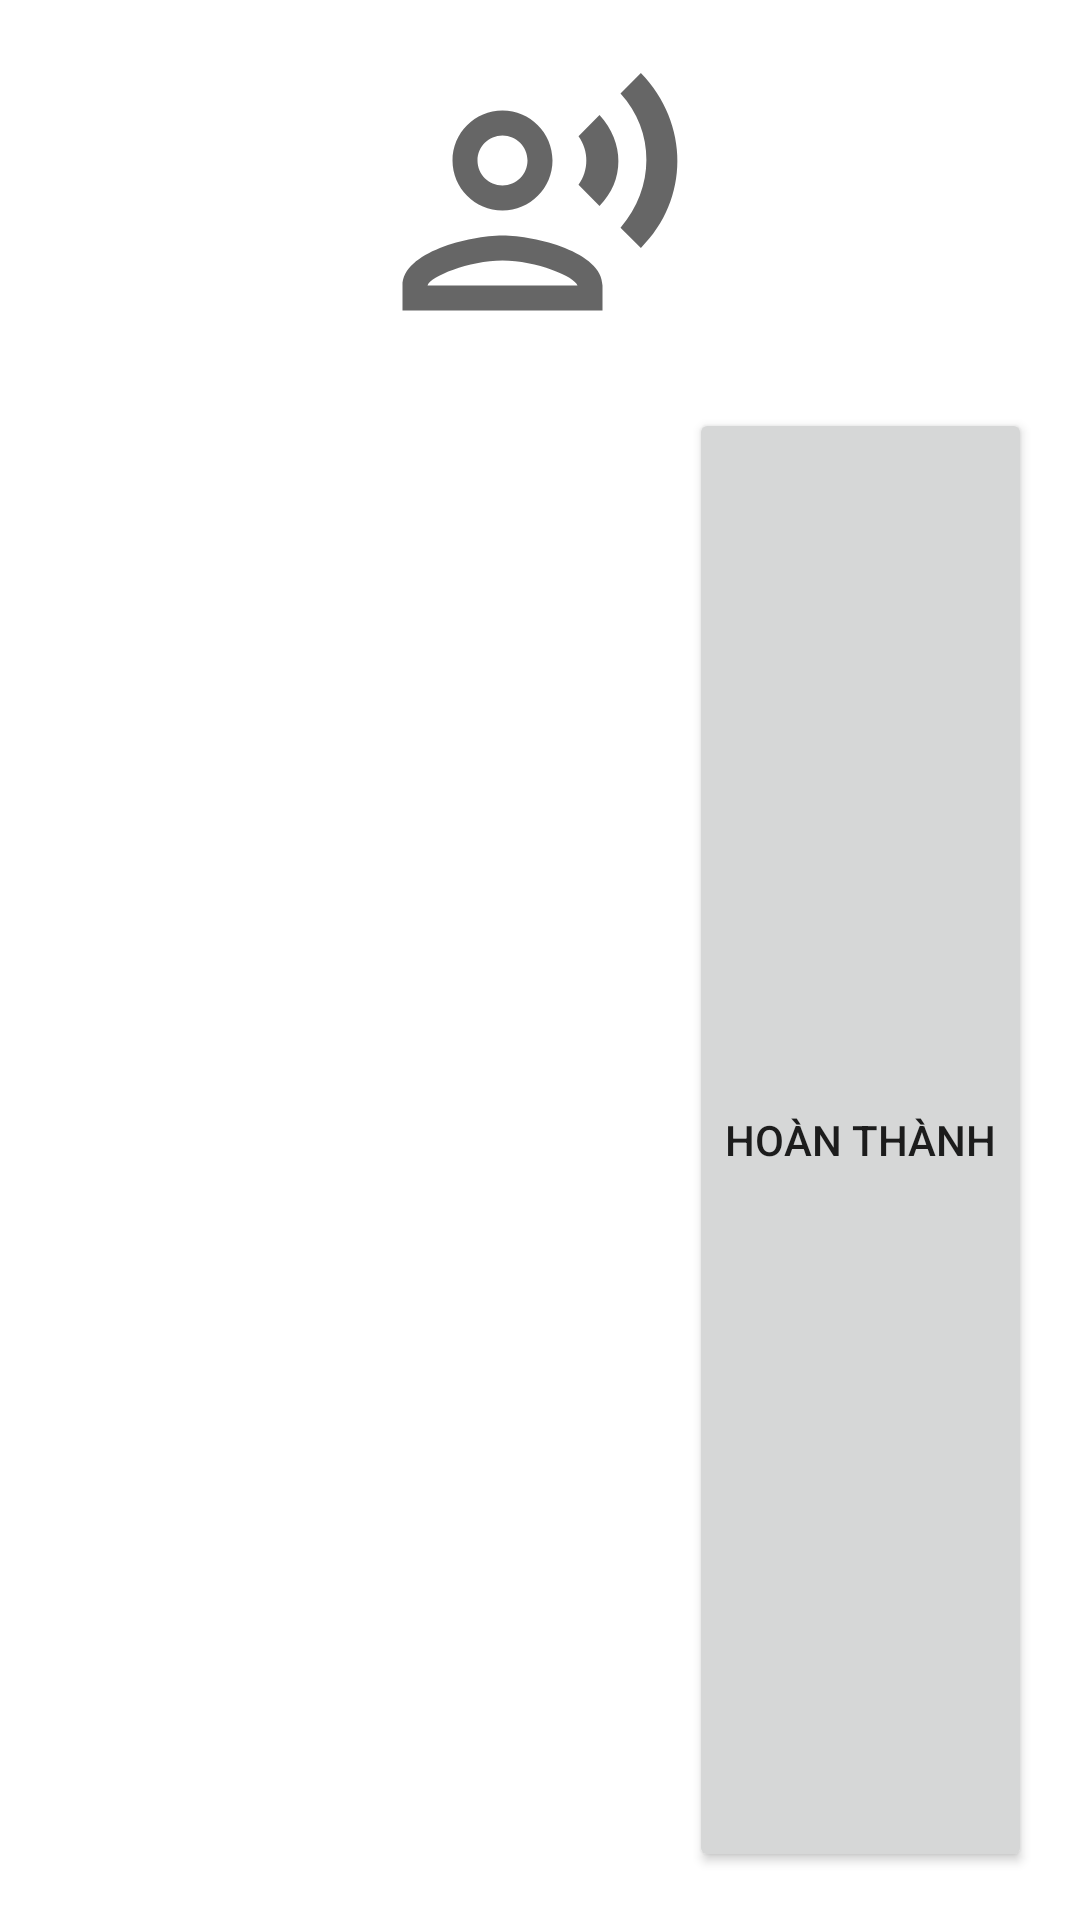

Screen size 1080 × 1920. Icon name, then its box in pixels as (x1, y1, x2, y2):
record voice over: (402, 73, 678, 311)
